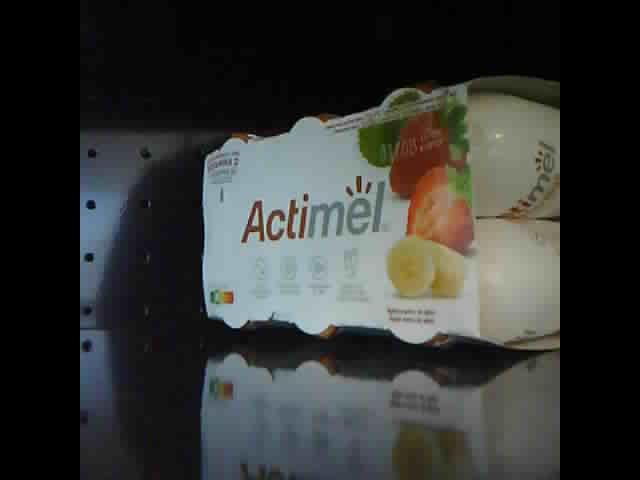actimel: (200, 70, 560, 354)
